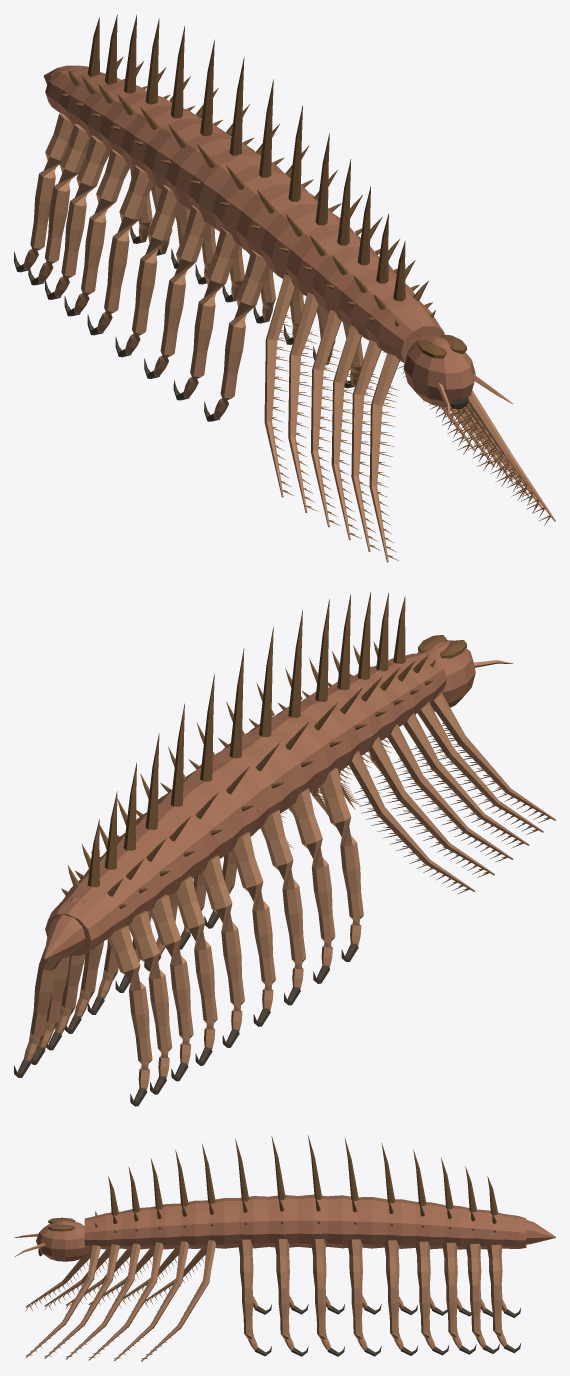
3 views of the same model, one above another, from view 1: azimuth 30°, elevation 25°; view 2: azimuth 150°, elevation 25°; view 3: azimuth 270°, elevation 25° (orthographic). The views are drawn at different scales.
Visible parts, largest first — view 1: continuous_tubular_annulated_trunk, nine_pairs_annulated_posterior_lobopods, six_pairs_elongated_smooth_filtering_limbs, stations02to15_medial_spines, filter_setae_20_paired_per_limb, ventrally_bent_eyeless_bulbous_head, stations02to15_paired_dorsolateral_spines, nine_pairs_backward_recurved_terminal_claws, stations02to15_paired_short_lateral_spines; view 2: nine_pairs_annulated_posterior_lobopods, continuous_tubular_annulated_trunk, six_pairs_elongated_smooth_filtering_limbs, stations02to15_medial_spines, nine_pairs_backward_recurved_terminal_claws, filter_setae_20_paired_per_limb, stations02to15_paired_dorsolateral_spines, ventrally_bent_eyeless_bulbous_head, posterior_lobopodous_trunk_extension, stations02to15_paired_short_lateral_spines; view 3: continuous_tubular_annulated_trunk, nine_pairs_annulated_posterior_lobopods, six_pairs_elongated_smooth_filtering_limbs, stations02to15_medial_spines, ventrally_bent_eyeless_bulbous_head, nine_pairs_backward_recurved_terminal_claws, filter_setae_20_paired_per_limb, stations02to15_paired_dorsolateral_spines, posterior_lobopodous_trunk_extension.
Part boxes in pixels (x1,y1,x2,y2): continuous_tubular_annulated_trunk: [45, 65, 444, 362]; nine_pairs_annulated_posterior_lobopods: [24, 113, 363, 418]; six_pairs_elongated_smooth_filtering_limbs: [264, 274, 555, 562]; stations02to15_medial_spines: [87, 14, 405, 301]; filter_setae_20_paired_per_limb: [272, 315, 550, 560]; ventrally_bent_eyeless_bulbous_head: [403, 335, 475, 407]; stations02to15_paired_dorsolateral_spines: [68, 56, 428, 309]; nine_pairs_backward_recurved_terminal_claws: [14, 227, 355, 421]; stations02to15_paired_short_lateral_spines: [61, 79, 432, 321]; nine_pairs_annulated_posterior_lobopods: [23, 767, 363, 1089]; continuous_tubular_annulated_trunk: [45, 653, 446, 955]; six_pairs_elongated_smooth_filtering_limbs: [289, 692, 555, 891]; stations02to15_medial_spines: [87, 591, 405, 887]; nine_pairs_backward_recurved_terminal_claws: [14, 910, 358, 1106]; filter_setae_20_paired_per_limb: [281, 723, 550, 894]; stations02to15_paired_dorsolateral_spines: [68, 641, 428, 896]; ventrally_bent_eyeless_bulbous_head: [417, 640, 475, 711]; posterior_lobopodous_trunk_extension: [43, 897, 90, 959]; stations02to15_paired_short_lateral_spines: [61, 666, 432, 908]; continuous_tubular_annulated_trunk: [84, 1194, 526, 1249]; nine_pairs_annulated_posterior_lobopods: [238, 1238, 506, 1350]; six_pairs_elongated_smooth_filtering_limbs: [25, 1240, 215, 1361]; stations02to15_medial_spines: [108, 1135, 498, 1215]; ventrally_bent_eyeless_bulbous_head: [36, 1221, 91, 1261]; nine_pairs_backward_recurved_terminal_claws: [254, 1304, 520, 1356]; filter_setae_20_paired_per_limb: [25, 1248, 205, 1358]; stations02to15_paired_dorsolateral_spines: [113, 1198, 496, 1223]; posterior_lobopodous_trunk_extension: [510, 1215, 555, 1244].
Bounding box in the file's own units: 0.0235 × 0.0375 × 0.092.
